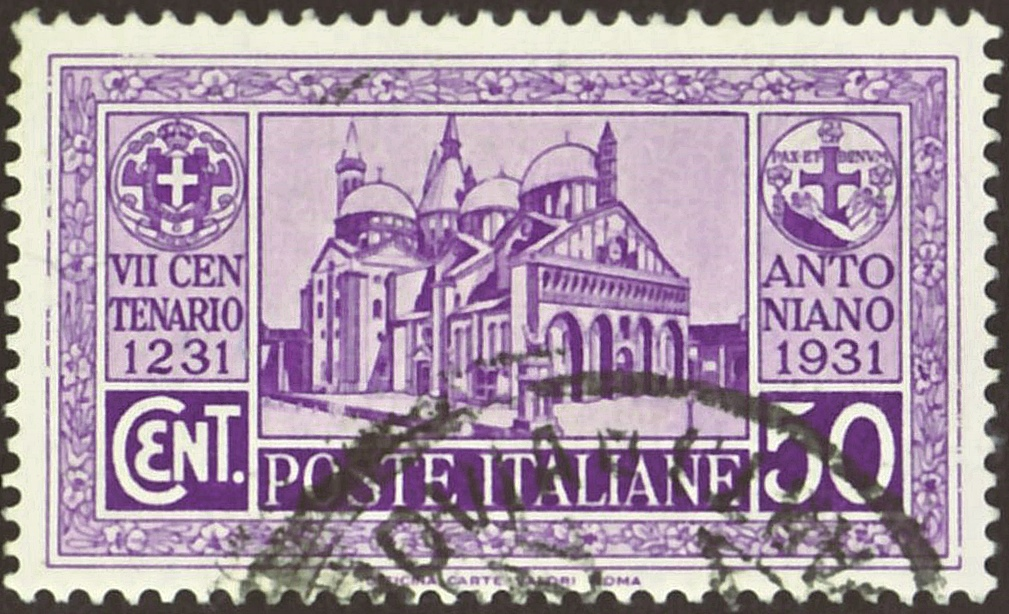fachada: (255, 108, 752, 437)
